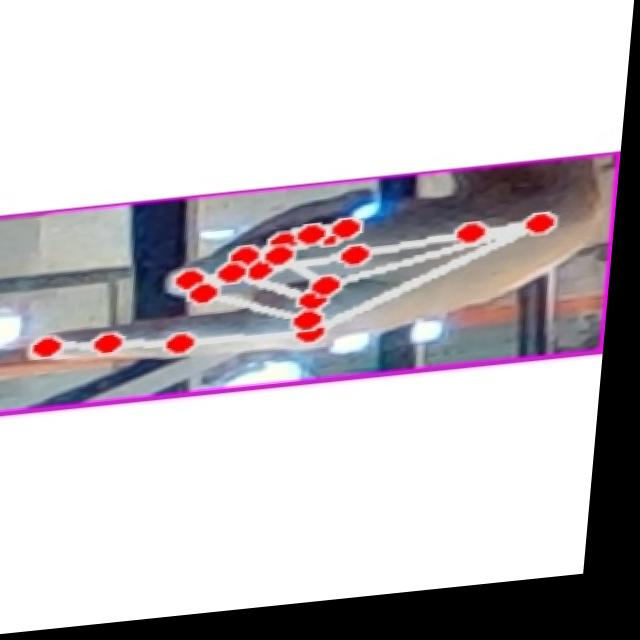G: (21, 182, 609, 386)
